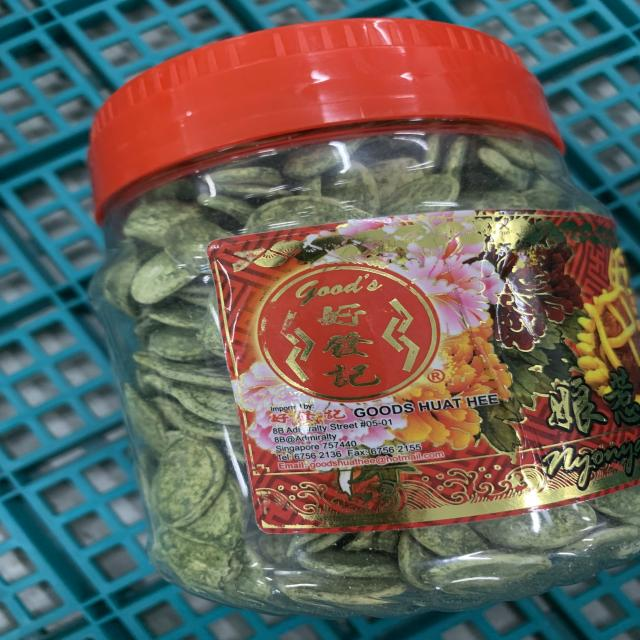object_name: (103, 44, 640, 580)
